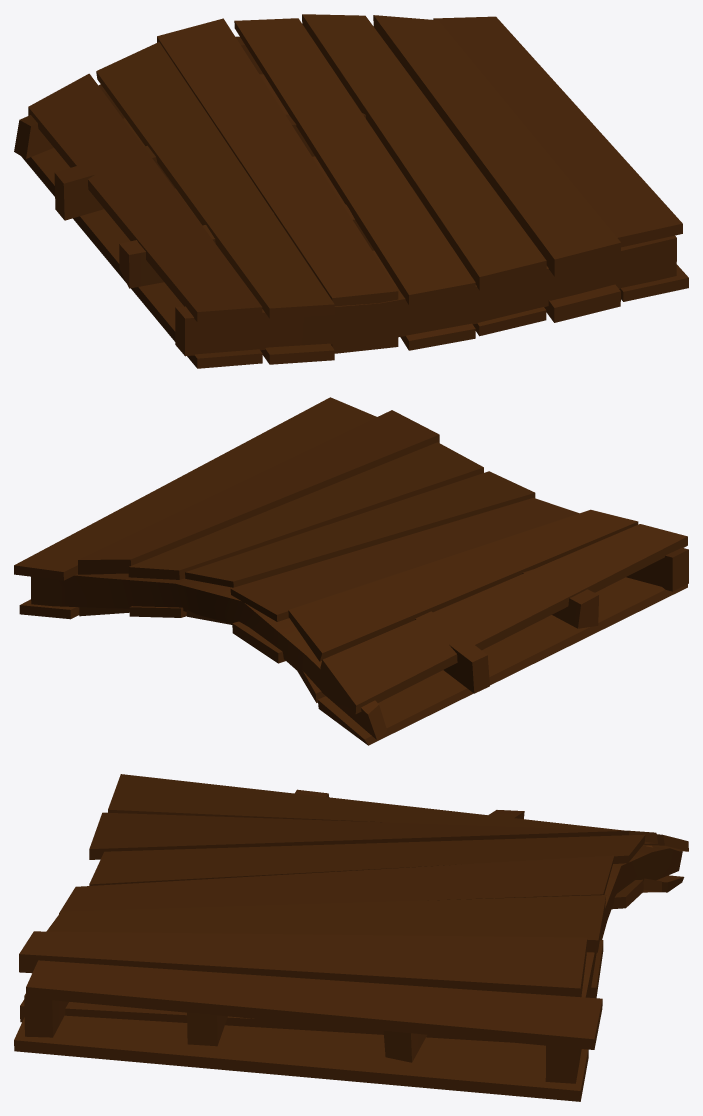
File: board_simple-industry-crane-1_001.fbx
3 views of the same model, one above another, from view 1: azimuth 30°, elevation 25°; view 2: azimuth 150°, elevation 25°; view 3: azimuth 270°, elevation 25° (orthographic). The views are drawn at different scales.
Parts seen in each view (by area): view 1: board.simple-industry-crane-1.001; view 2: board.simple-industry-crane-1.001; view 3: board.simple-industry-crane-1.001.
Boxes of the visible parts, <box> form: board.simple-industry-crane-1.001: <box>14,14,688,368</box>; board.simple-industry-crane-1.001: <box>14,397,688,745</box>; board.simple-industry-crane-1.001: <box>14,774,688,1101</box>.
Bounding box in the file's own units: 1.05 × 0.2357 × 1.1.
